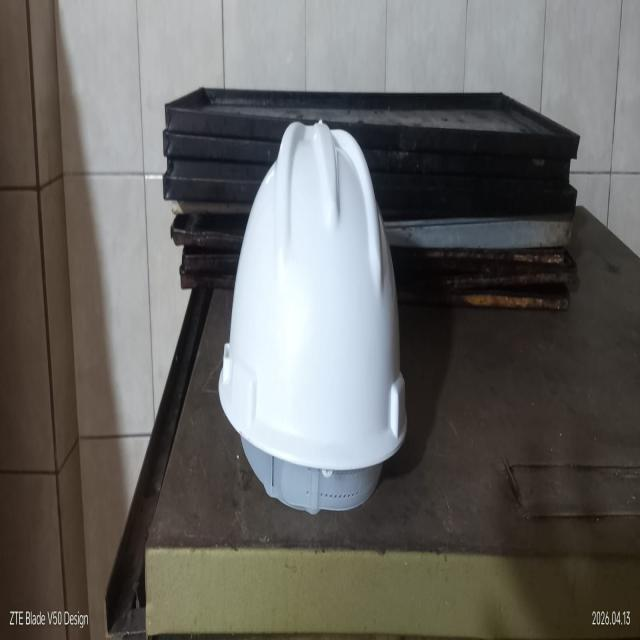casco: (214, 104, 421, 530)
